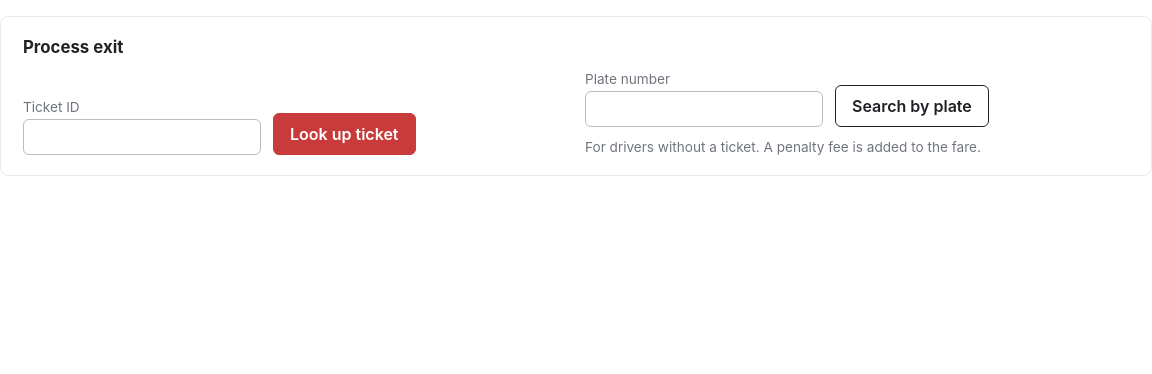
Test case: ExitConsole › supports lost-ticket search by plate and identifies the penalty in the receipt
Type "KA02CD5678" into the field labelled "Plate number". click: (704, 109)
box: top-left (585, 91), bottom-right (823, 127)
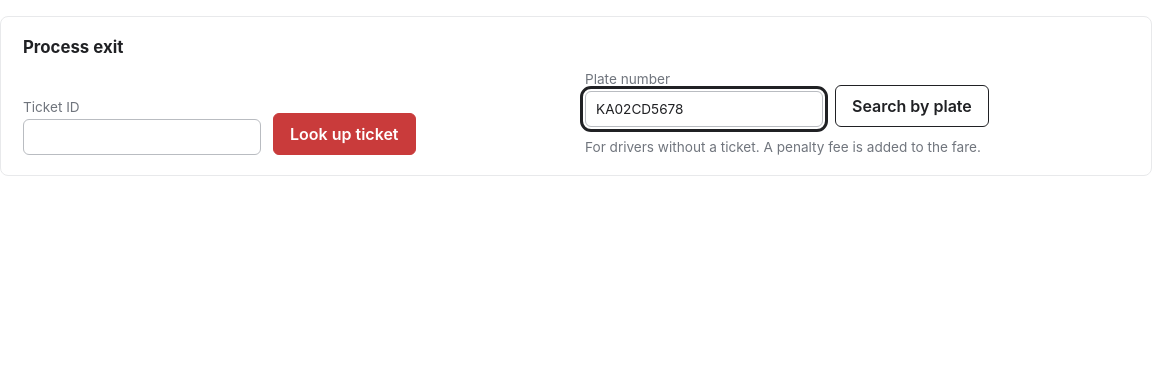
Click the button "Search by plate". click: (912, 106)
box: top-left (835, 85), bottom-right (989, 127)
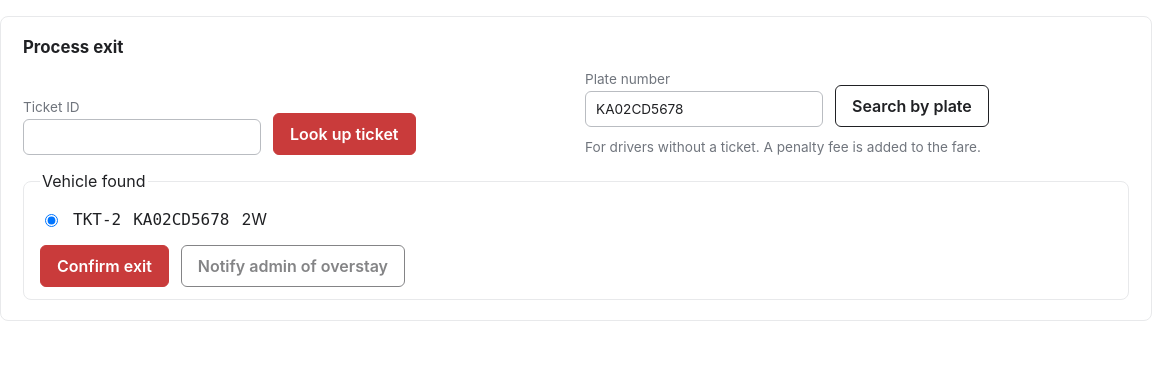
expect the text "TKT-2" is shown: met, box top-left (73, 210), bottom-right (121, 228)
Click the button "Confirm exit". click: (104, 266)
box: top-left (40, 245), bottom-right (169, 287)
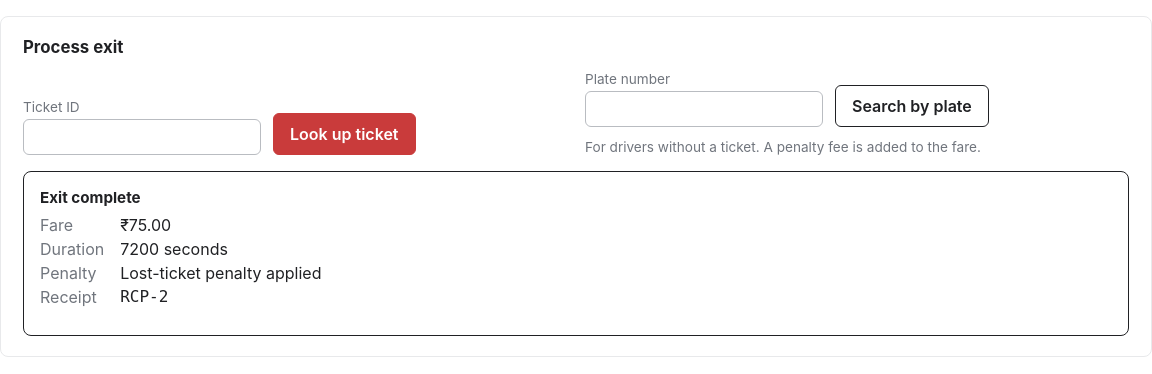
expect the text "Lost-ticket penalty applied" is shown: met, box top-left (120, 263), bottom-right (322, 283)
